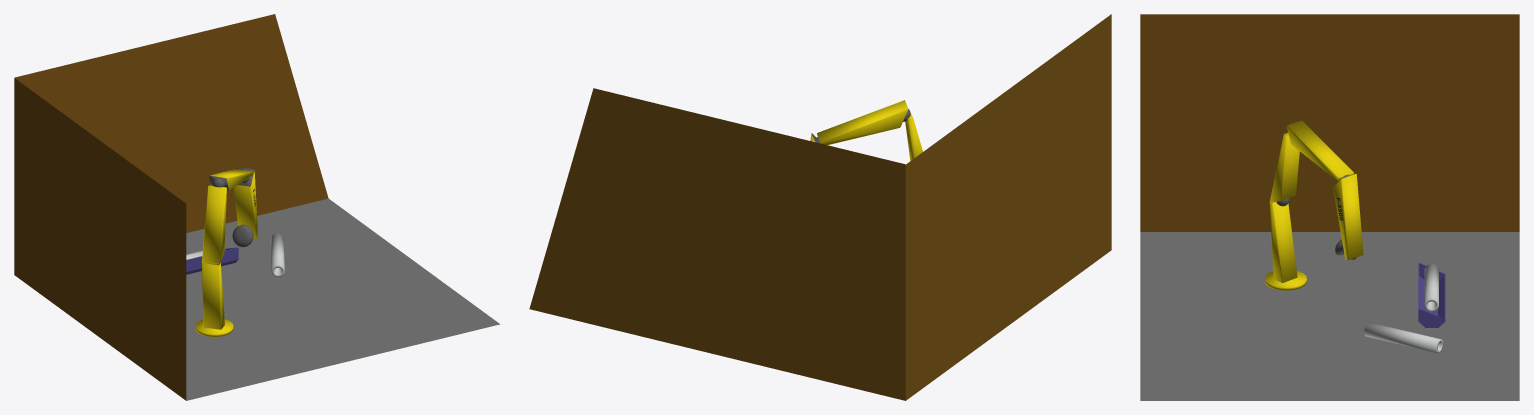
3 views of the same model, side by side, from view 1: azimuth 30°, elevation 25°; view 2: azimuth 150°, elevation 25°; view 3: azimuth 270°, elevation 25° (orthographic). The views are drawn at different scales.
Visible parts, largest first — view 1: Плоскость, Куб.002, Куб.001, Куб.003, Куб, Окружность.001, Куб.004; view 2: Плоскость, Куб; view 3: Плоскость, Куб.002, Куб.003, Куб, Куб.001, Окружность.001, Куб.004, Окружность.
Part boxes in pixels (x1,y1,x2,y2): Плоскость: (14, 14, 499, 400); Куб.002: (195, 261, 233, 336); Куб.001: (202, 185, 226, 265); Куб.003: (233, 167, 258, 238); Куб: (209, 169, 252, 190); Окружность.001: (270, 233, 284, 277); Куб.004: (186, 247, 238, 274); Плоскость: (529, 14, 1111, 400); Куб: (817, 100, 910, 145); Плоскость: (1140, 14, 1519, 400); Куб.002: (1265, 202, 1306, 290); Куб.003: (1333, 173, 1363, 260); Куб: (1286, 120, 1354, 181); Куб.001: (1269, 132, 1299, 206); Окружность.001: (1364, 322, 1443, 353); Куб.004: (1418, 263, 1445, 327); Окружность: (1424, 264, 1438, 311).
Bounding box in the file's own units: 3737 × 2246 × 3541.
